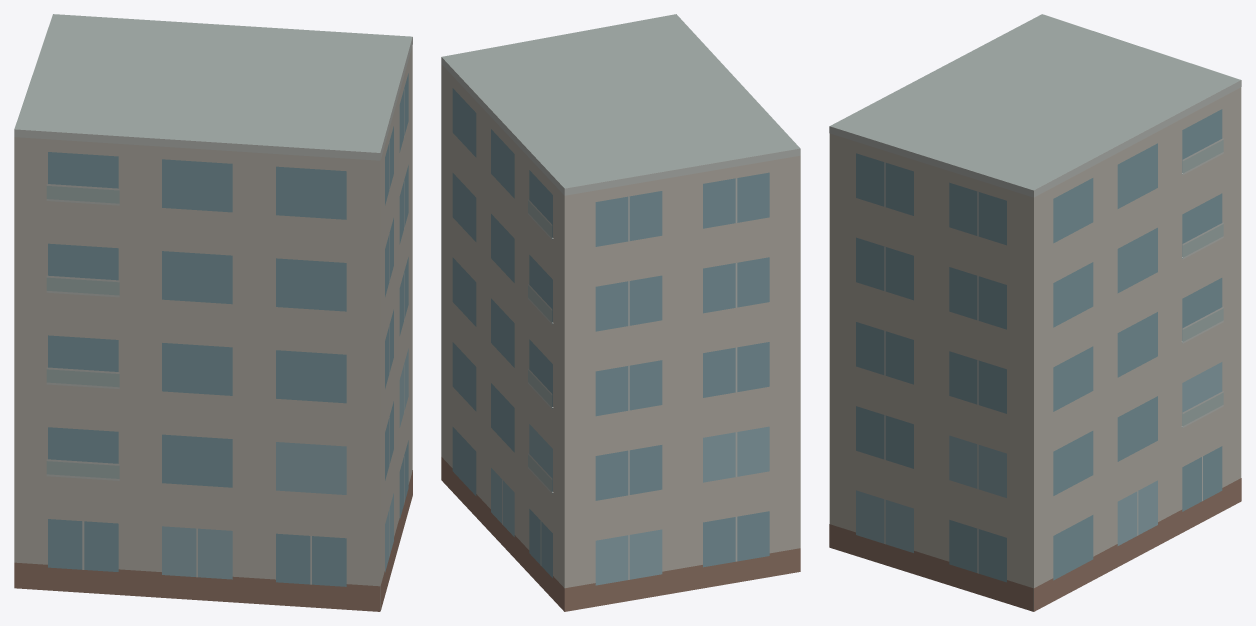
File: survey-upis-32512952.glb
3 views of the same model, side by side, from view 1: azimuth 30°, elevation 25°; view 2: azimuth 150°, elevation 25°; view 3: azimuth 270°, elevation 25° (orthographic). The views are drawn at different scales.
Parts seen in each view (by area): view 1: survey-upis-32512952.tmp; view 2: survey-upis-32512952.tmp; view 3: survey-upis-32512952.tmp.
Boxes of the visible parts, <box> form: survey-upis-32512952.tmp: <box>14,14,412,611</box>; survey-upis-32512952.tmp: <box>441,14,800,611</box>; survey-upis-32512952.tmp: <box>829,14,1241,611</box>.
Size of the model in its own units: 13.04 by 14.5 by 12.86.
